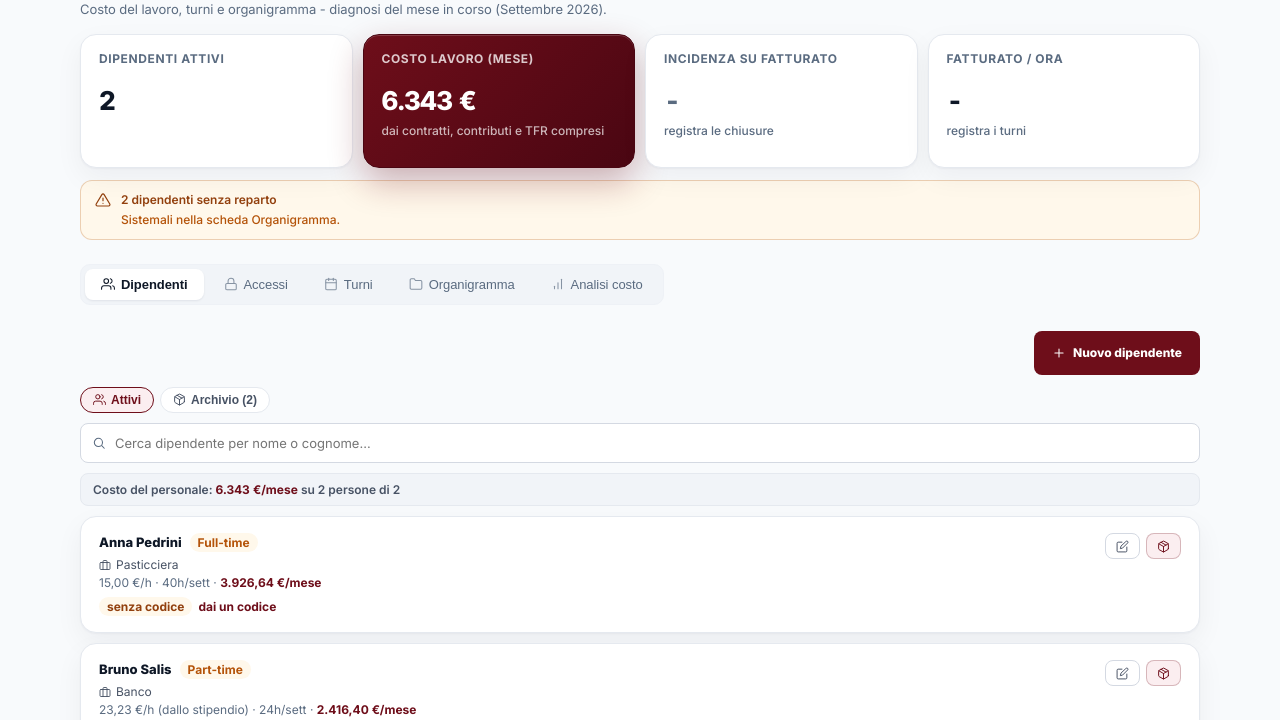
Scenario: Prima di archiviare una persona, si chiede › rispondendo «Annulla» non si scrive niente
Click the button named "Archivia" in the row of "Full-time". click: coordinates (1164, 546)
box: [1146,532,1181,558]
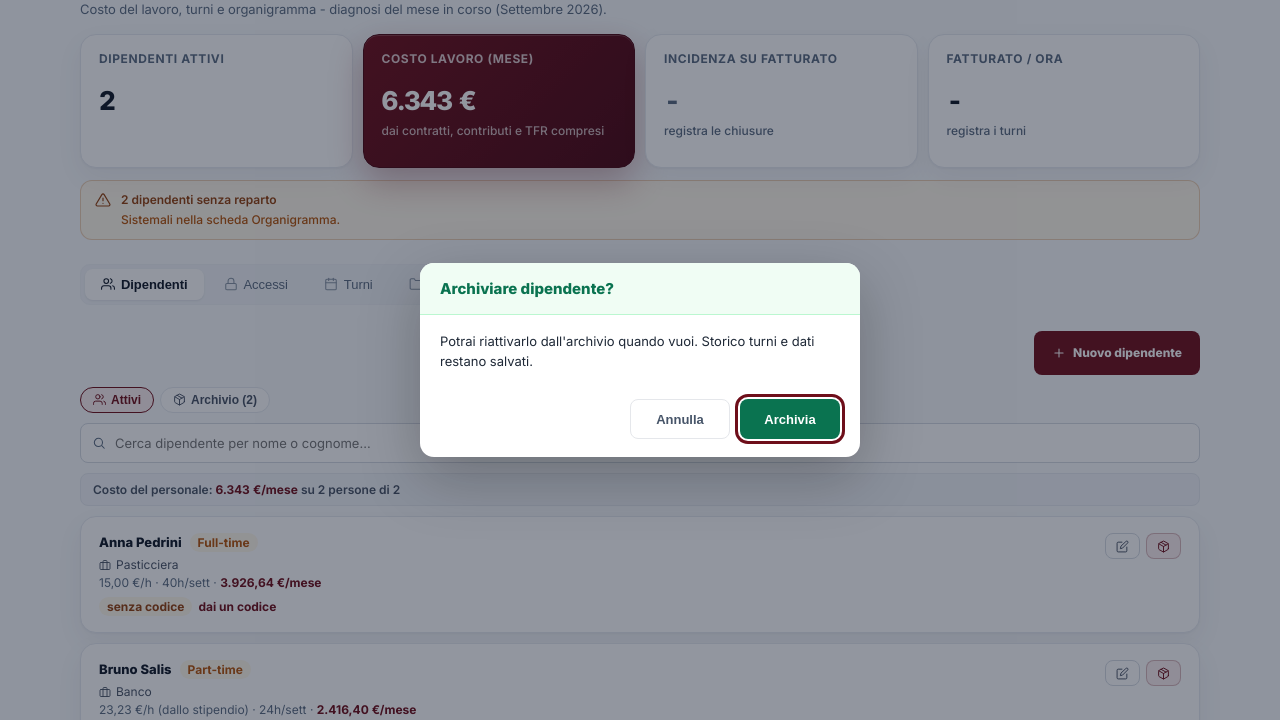
Expected: the text "Archiviare dipendente?" is shown, [440,279,614,298]
Click the button "Annulla". click: coordinates (680, 419)
box: [630,399,730,439]
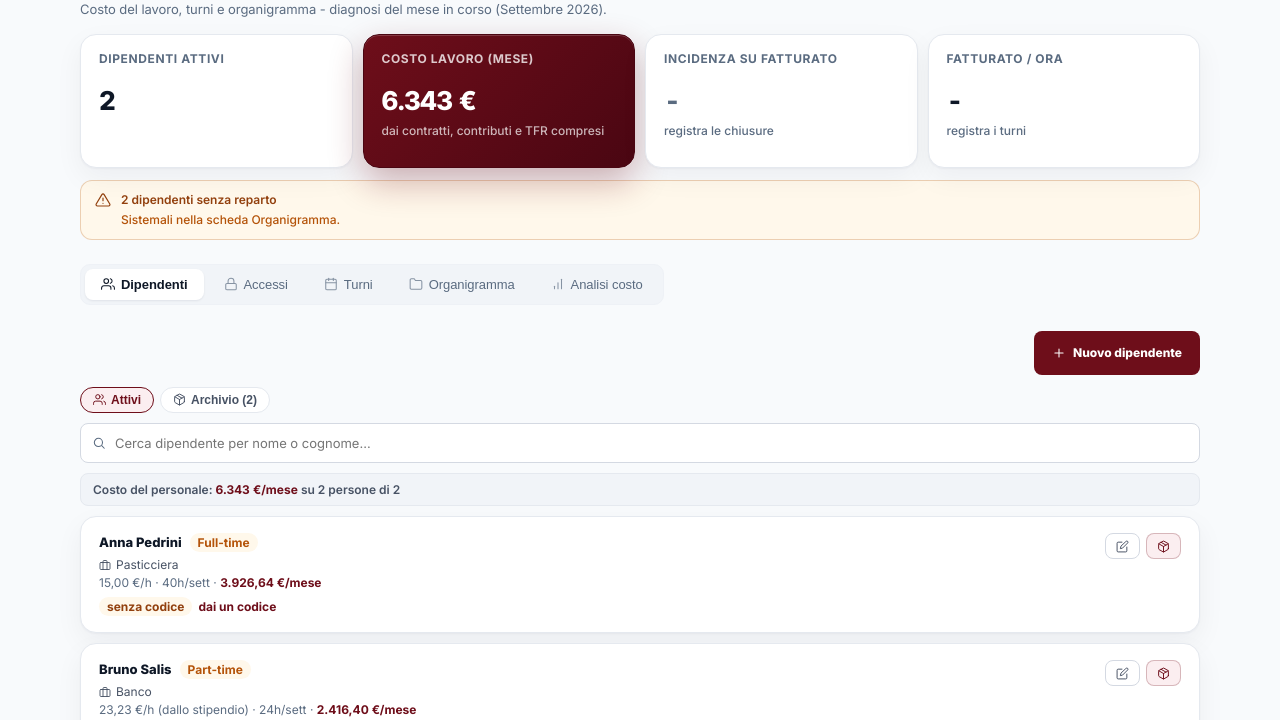
Expected: the text "Archiviare dipendente?" is gone
